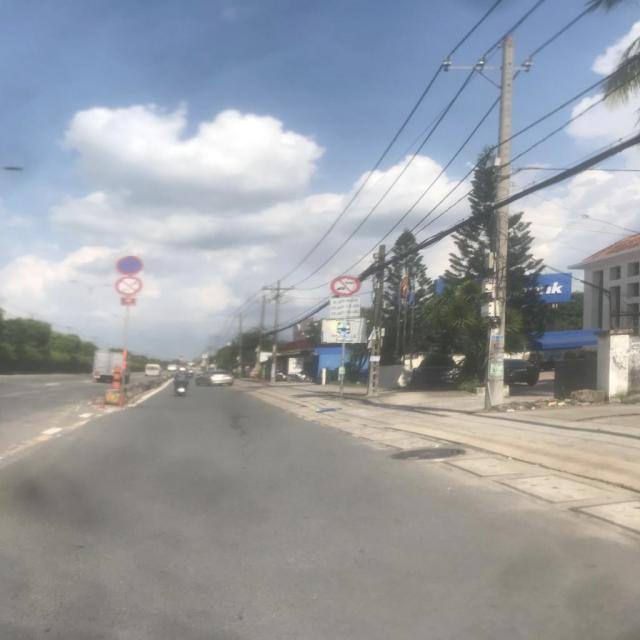107-cam-oto-khach-va-oto-tai: (330, 275, 362, 297)
